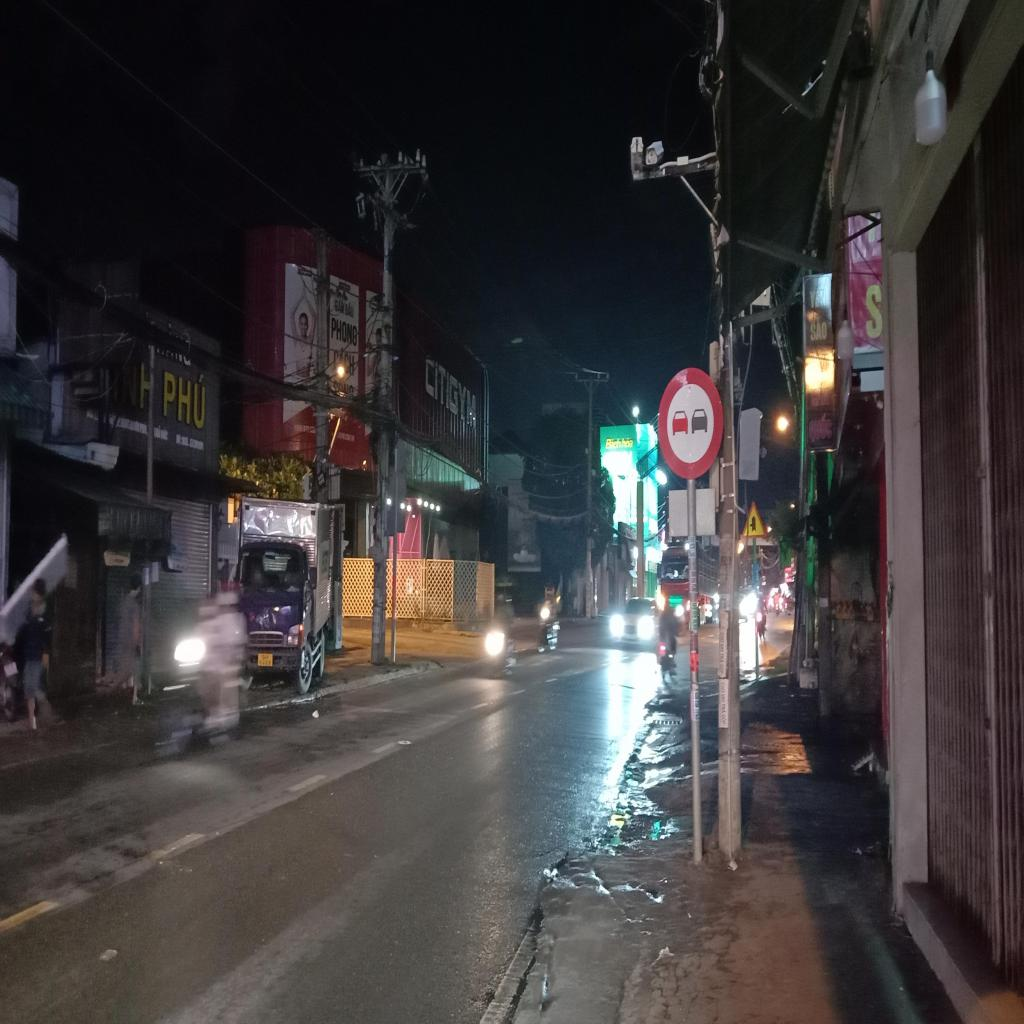cam_vuot: (657, 366, 726, 481)
giao_nhau_voi_duong_khong_uu_tien: (741, 499, 767, 538)
